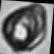correct: (0, 0, 51, 54)
